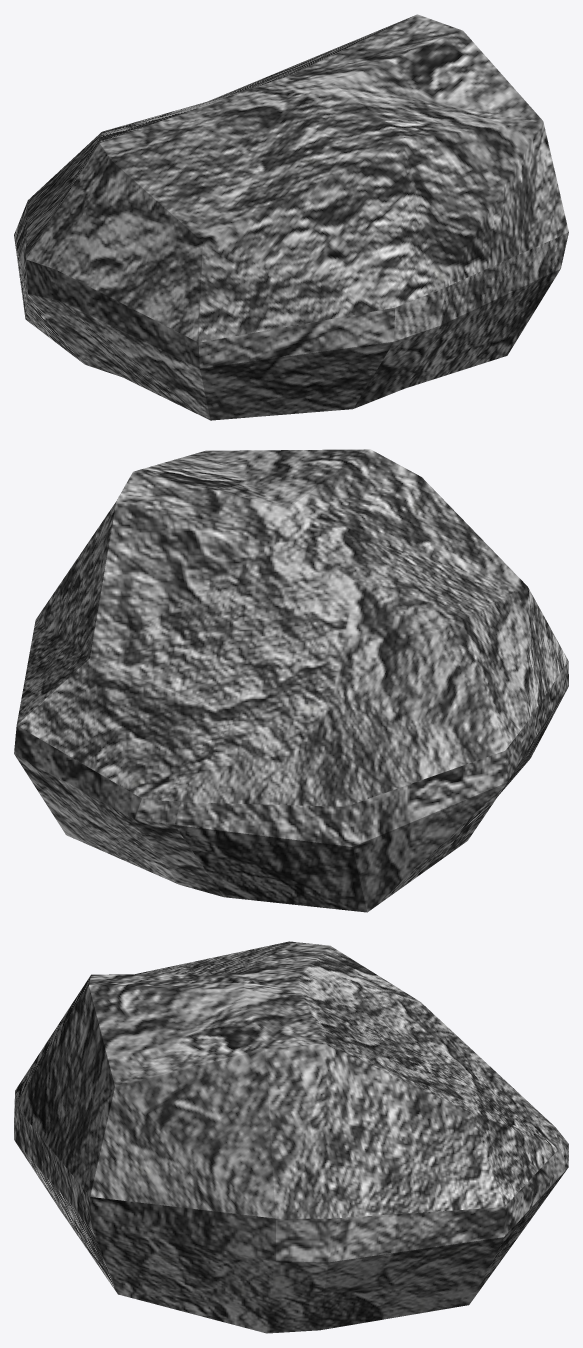
The model's file is rock 1.fbx.
The picture shows the model from 3 angles, top to bottom: view 1: azimuth 30°, elevation 25°; view 2: azimuth 150°, elevation 25°; view 3: azimuth 270°, elevation 25°; orthographic projection.
Visible parts, largest first — view 1: rock; view 2: rock; view 3: rock.
Part boxes in pixels (left/top/right/bottom): rock: left=14, top=14, right=568, bottom=420; rock: left=14, top=449, right=568, bottom=912; rock: left=14, top=941, right=568, bottom=1333.
Size of the model in its own units: 26.53 by 15.66 by 27.42.
1 material, 1 textured.
